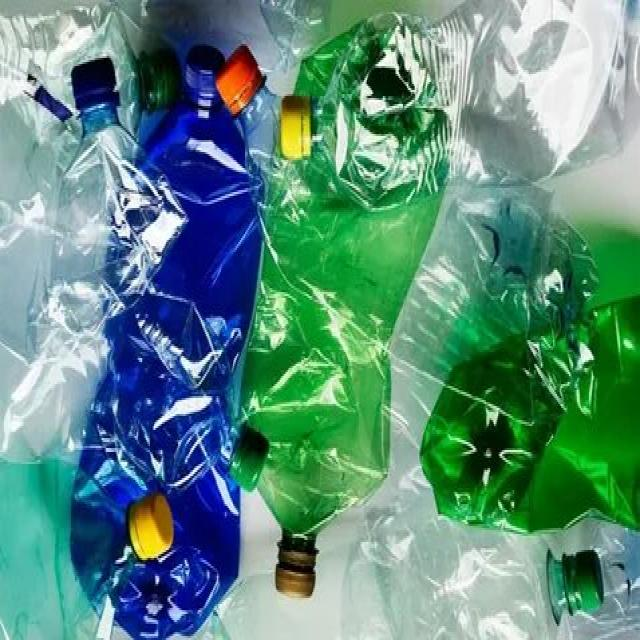green: (248, 197, 432, 535), (419, 290, 640, 530)
